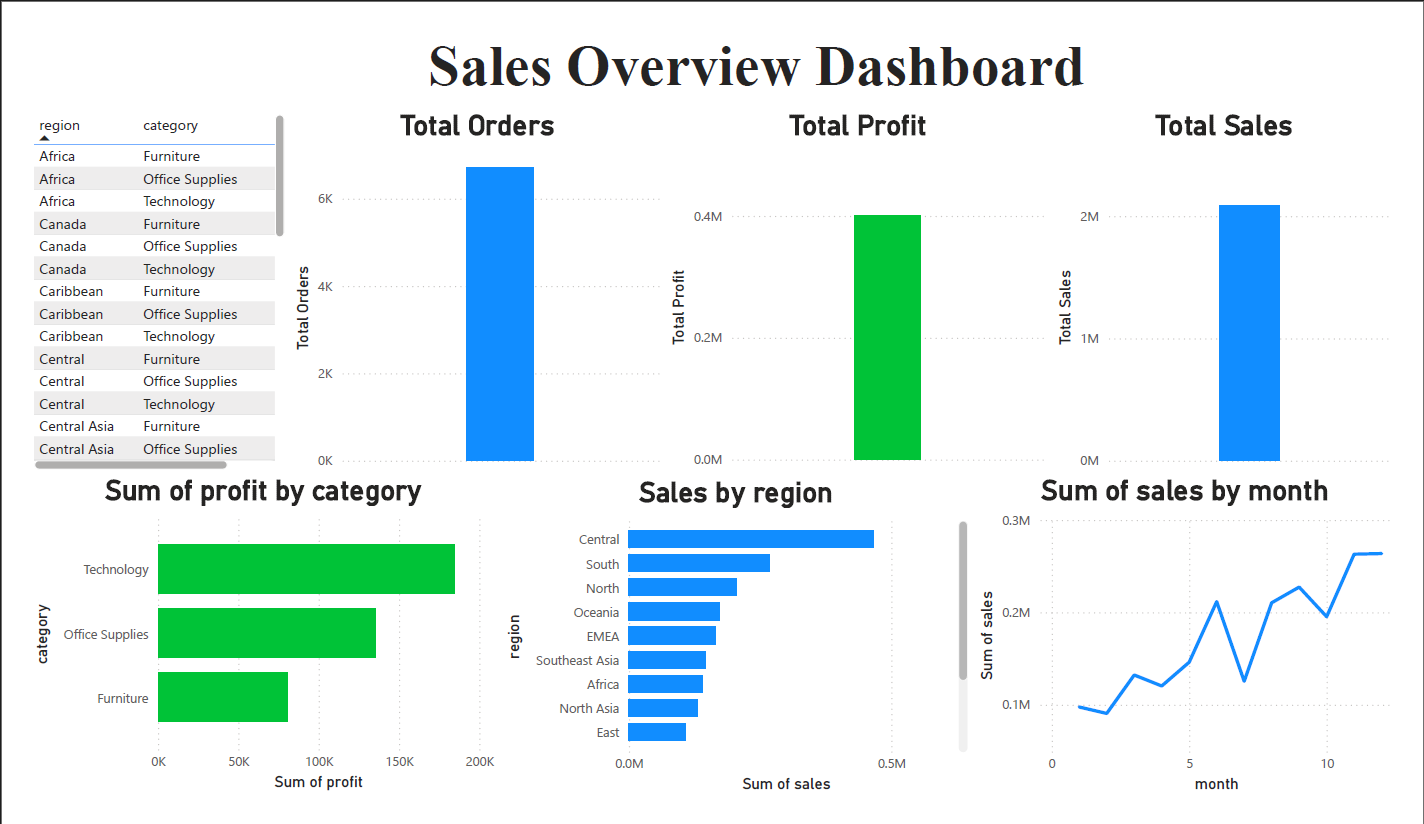

The page's visual inventory and layout, read from the dashboard file:
{"tool":"powerbi","page":{"name":"Page 1","canvas":[1280,720],"ordinal":0},"visuals":[{"type":"clusteredColumnChart","fields":{"Y":["cleaned_sales_data.Total Orders"]},"box":[244.3,75.5,351.3,343.1],"z":0},{"type":"clusteredColumnChart","fields":{"Y":["cleaned_sales_data.Total Profit"]},"box":[595,75,361.2,342.5],"z":1000},{"type":"clusteredColumnChart","fields":{"Y":["cleaned_sales_data.Total Sales"]},"box":[956.4,75.5,323.8,343.1],"z":2000},{"type":"clusteredBarChart","title":"Sales by region","fields":{"Y":["Sum(cleaned_sales_data.sales)"],"Category":["cleaned_sales_data.region"]},"box":[441.2,417.5,441.2,302.5],"z":2001},{"type":"clusteredBarChart","fields":{"Category":["cleaned_sales_data.category"],"Y":["Sum(cleaned_sales_data.profit)"]},"box":[0,416.2,441.2,301.2],"z":2002},{"type":"lineChart","fields":{"Category":["cleaned_sales_data.month"],"Y":["Sum(cleaned_sales_data.sales)"]},"box":[882.5,416.2,397.5,303.8],"z":2003},{"type":"tableEx","fields":{"Values":["cleaned_sales_data.region","cleaned_sales_data.category"]},"box":[0,76.2,245,341.2],"z":2004},{"type":"textbox","box":[352.7,0,655.9,75.5],"z":2005}]}

Visuals, with their boxes in screenshot pixels (x1, y1, x2, y2), scaled from the page's 1280x720 canvas onto the 1424x824 screenshot:
clusteredColumnChart - cleaned_sales_data.Total Orders: {"x1": 272, "y1": 86, "x2": 663, "y2": 479}
clusteredColumnChart - cleaned_sales_data.Total Profit: {"x1": 662, "y1": 86, "x2": 1064, "y2": 478}
clusteredColumnChart - cleaned_sales_data.Total Sales: {"x1": 1064, "y1": 86, "x2": 1423, "y2": 479}
"Sales by region" clusteredBarChart: {"x1": 491, "y1": 478, "x2": 982, "y2": 823}
clusteredBarChart - cleaned_sales_data.category x Sum(cleaned_sales_data.profit): {"x1": 0, "y1": 476, "x2": 491, "y2": 821}
lineChart - cleaned_sales_data.month x Sum(cleaned_sales_data.sales): {"x1": 982, "y1": 476, "x2": 1423, "y2": 823}
tableEx - cleaned_sales_data.region x cleaned_sales_data.category: {"x1": 0, "y1": 87, "x2": 273, "y2": 478}
textbox: {"x1": 392, "y1": 0, "x2": 1122, "y2": 86}
